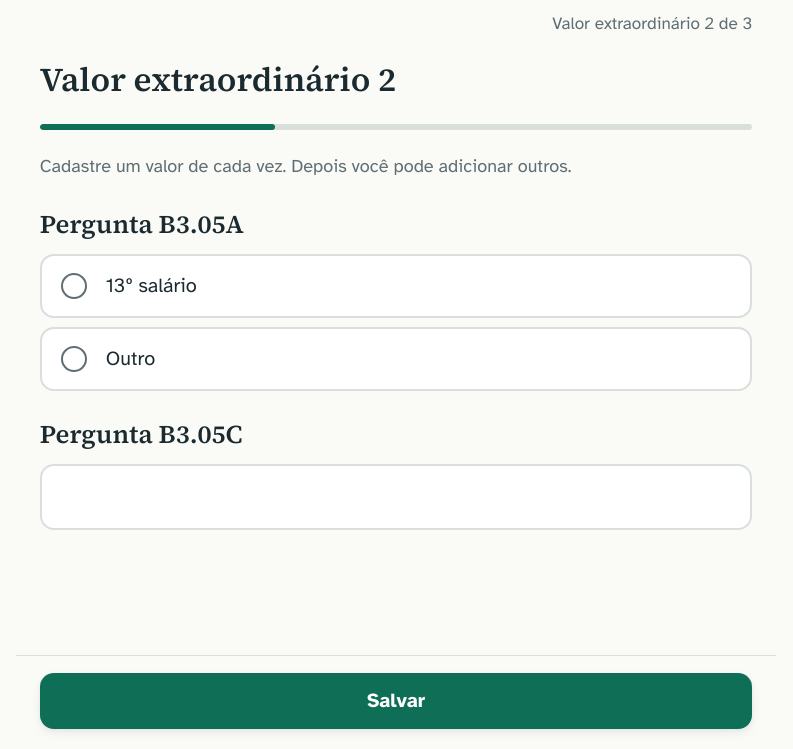
Scenario: T-314: ficha curta em uma tela › erro de um campo fica junto dele, os outros são gravados e a tela não sai
This screenshot has width=793, height=749.
Click the radio button labelled "13º salário" at point(151, 285), box x1=40 y1=254 x2=752 y2=318
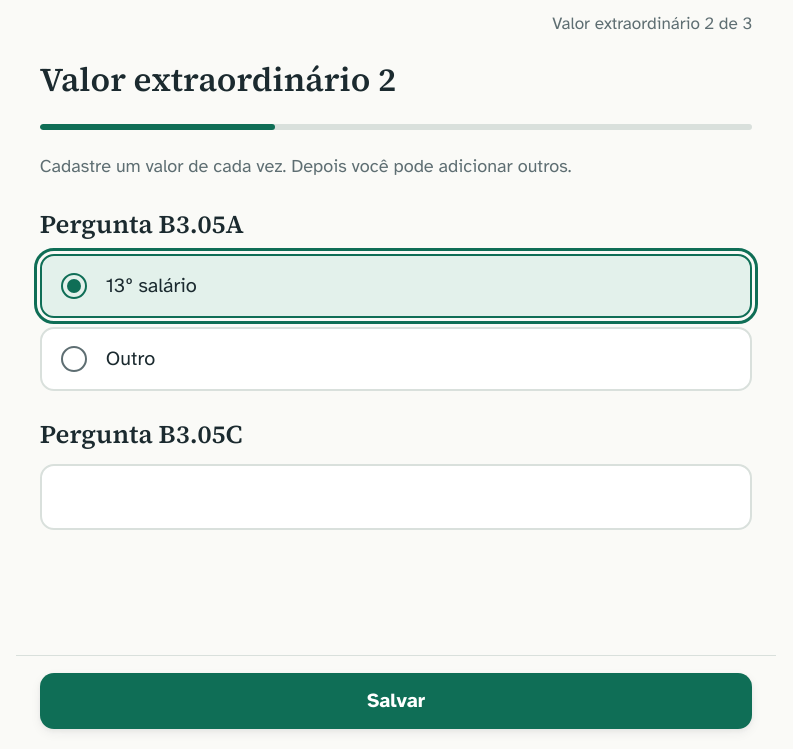
Type "x" into the field labelled "Pergunta B3.05C" at point(396, 497), box x1=40 y1=464 x2=752 y2=530
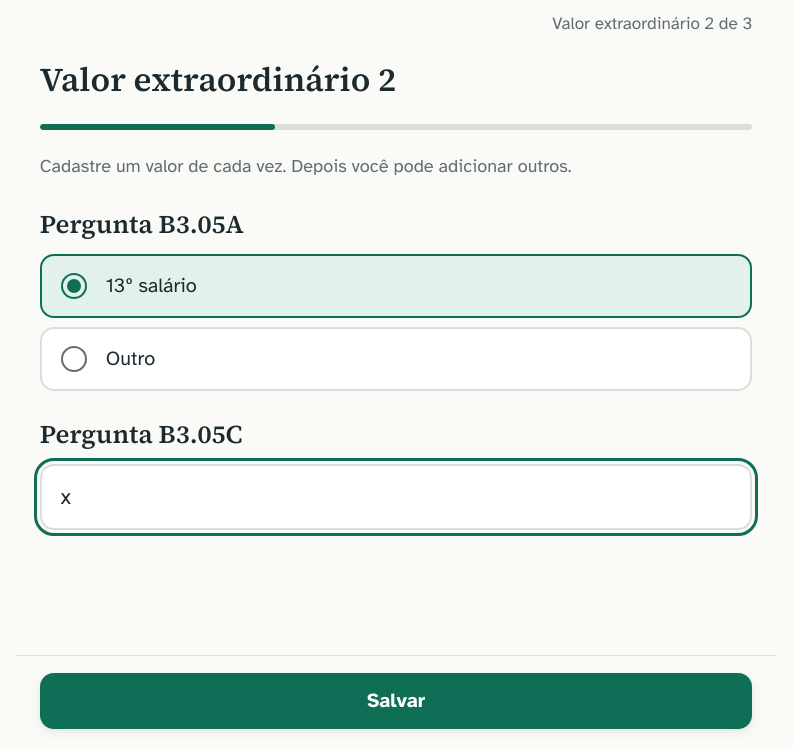
Click the button "Salvar" at point(396, 701), box x1=40 y1=673 x2=752 y2=729
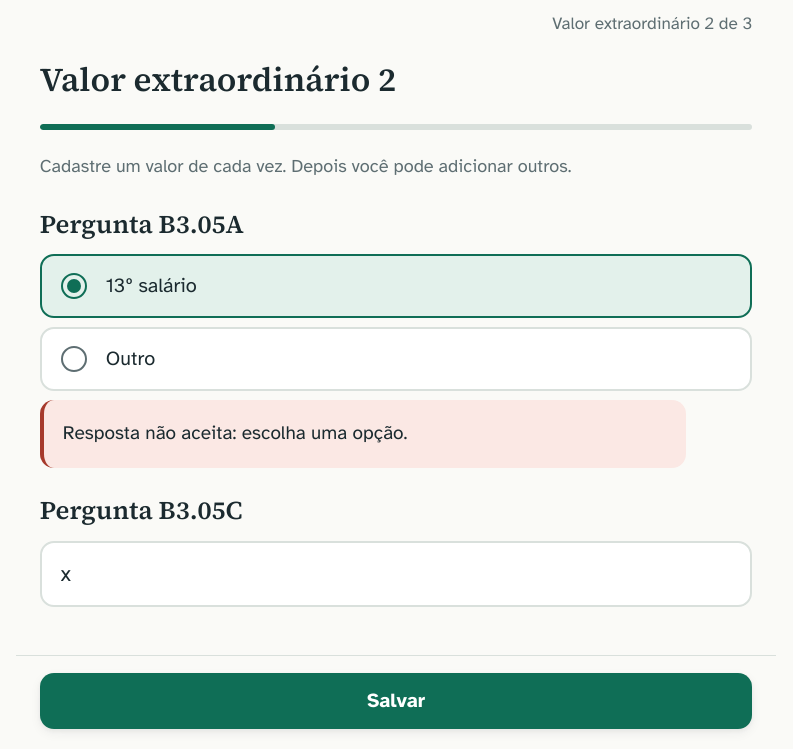
Expected: the message reads "Resposta não aceita: escolha uma opção.", x1=63 y1=421 x2=408 y2=445
